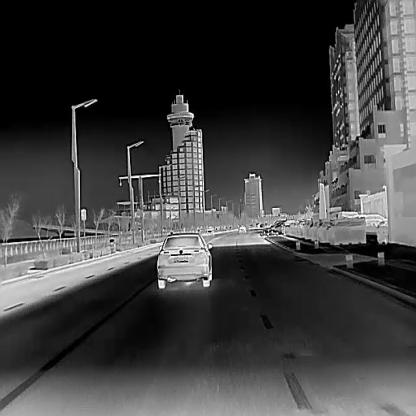car: (156, 230, 211, 288), (349, 214, 388, 234), (238, 224, 246, 233)
